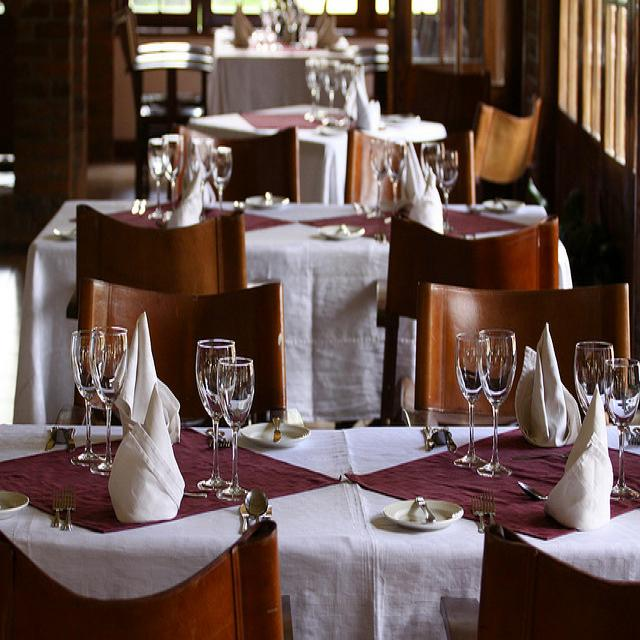chair: (377, 211, 560, 424), (0, 521, 292, 633), (415, 281, 633, 424), (79, 279, 287, 424), (438, 525, 640, 633), (112, 6, 211, 200), (77, 207, 248, 306), (471, 93, 543, 205), (223, 128, 299, 202), (411, 64, 491, 132), (344, 125, 406, 207)
dining table: (1, 424, 640, 638), (15, 190, 549, 426), (189, 94, 452, 207)
